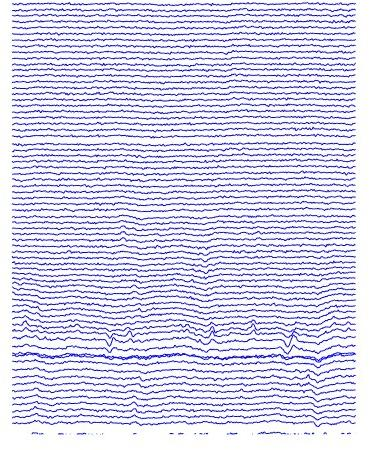defect: (98, 324, 135, 356), (279, 324, 300, 362), (247, 318, 260, 344), (205, 317, 218, 340)
